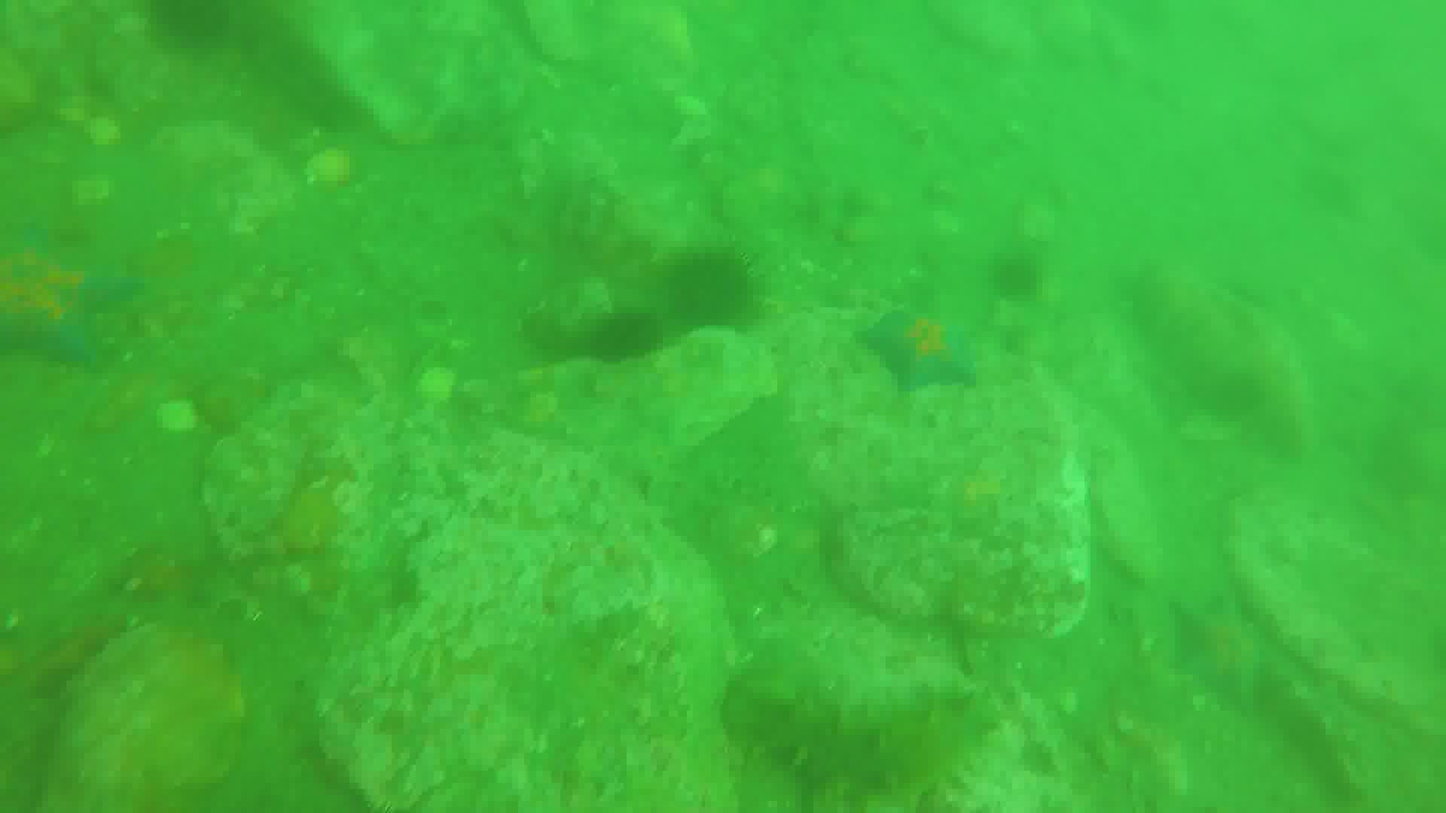echinus: (731, 671, 992, 794)
holothurian: (1, 245, 151, 368), (1168, 590, 1283, 708), (861, 301, 984, 397)
starfish: (669, 242, 755, 330), (588, 306, 676, 367), (163, 1, 233, 66), (995, 251, 1052, 303)
